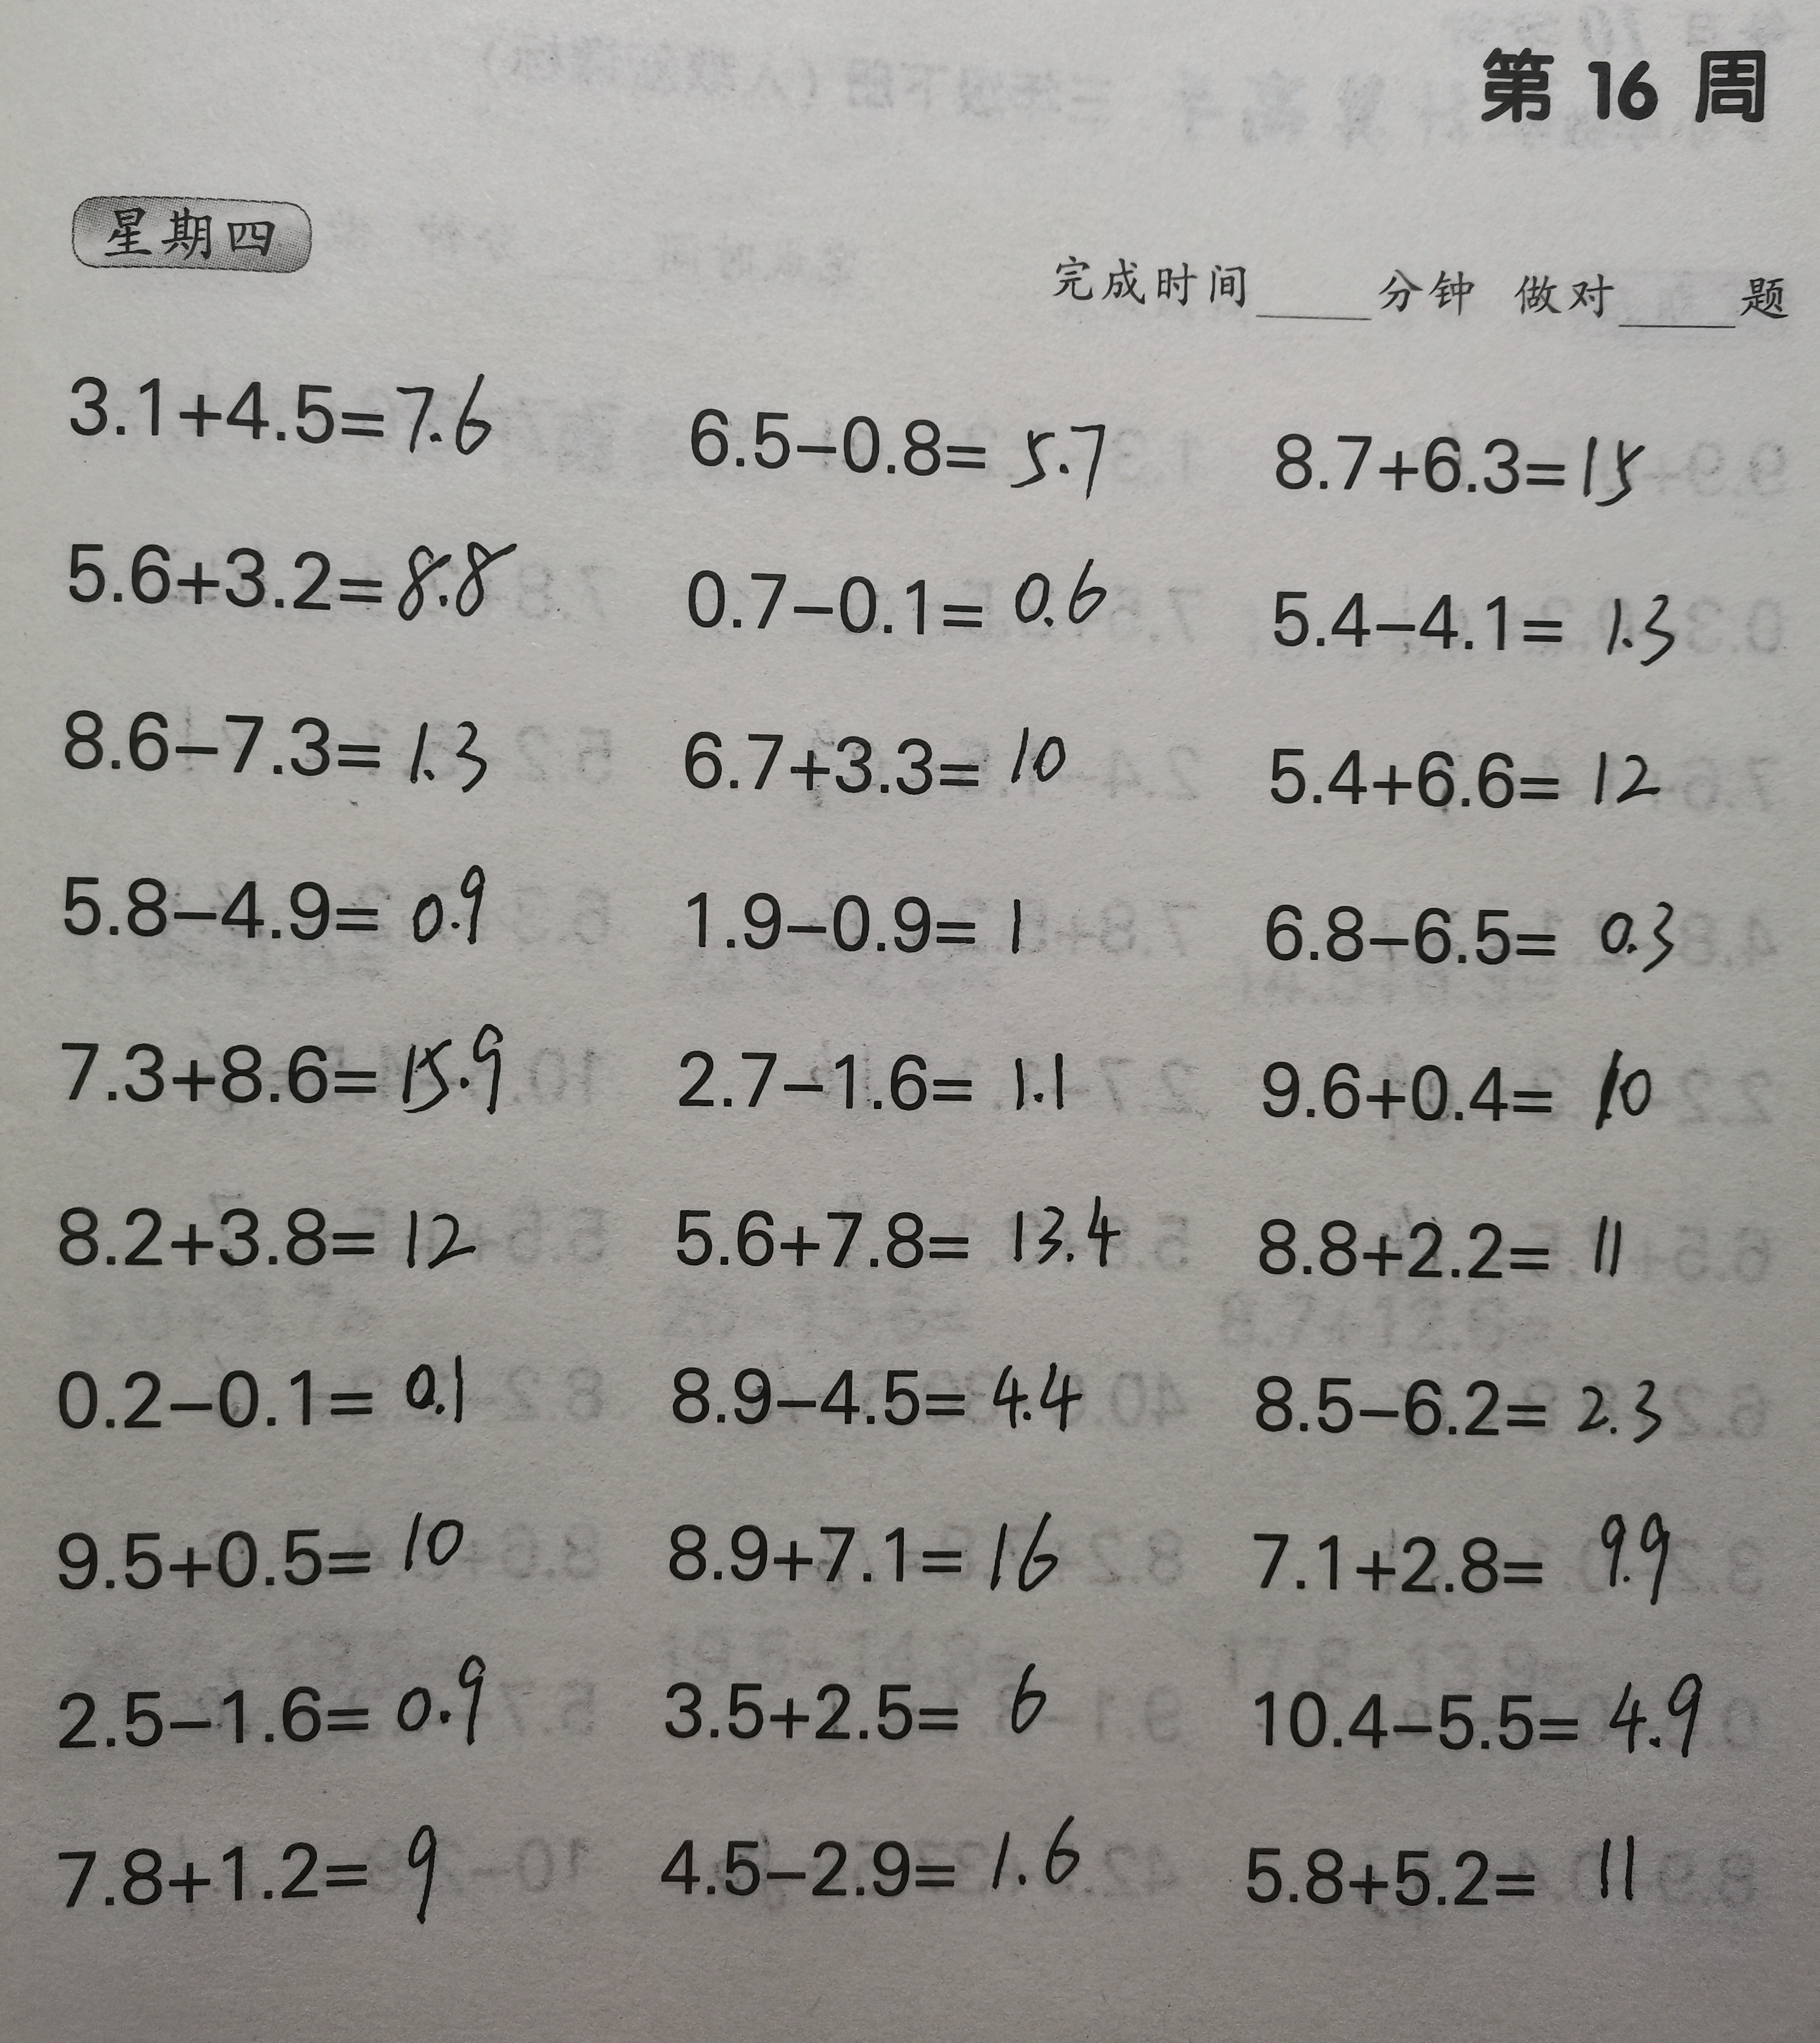equation: (1223, 1483, 1704, 1614), (641, 1794, 1107, 1929), (37, 1010, 522, 1137), (1219, 1655, 1736, 1771), (35, 341, 518, 464), (51, 506, 515, 631), (657, 1170, 1138, 1289), (44, 1809, 453, 1943), (668, 381, 1117, 502), (657, 1332, 1107, 1451), (30, 1333, 481, 1451), (1235, 1346, 1697, 1460), (643, 1493, 1089, 1611), (1260, 559, 1697, 678), (51, 689, 513, 801), (47, 841, 497, 956), (1246, 1024, 1683, 1140), (659, 1021, 1098, 1135), (44, 1642, 504, 1751), (35, 1491, 487, 1602), (643, 1637, 1077, 1751), (1254, 875, 1690, 987), (1230, 1808, 1662, 1920), (668, 545, 1131, 648), (657, 696, 1084, 808), (1258, 710, 1667, 826), (51, 1179, 485, 1284), (1258, 397, 1655, 509), (1244, 1189, 1674, 1291), (659, 861, 1044, 963)
